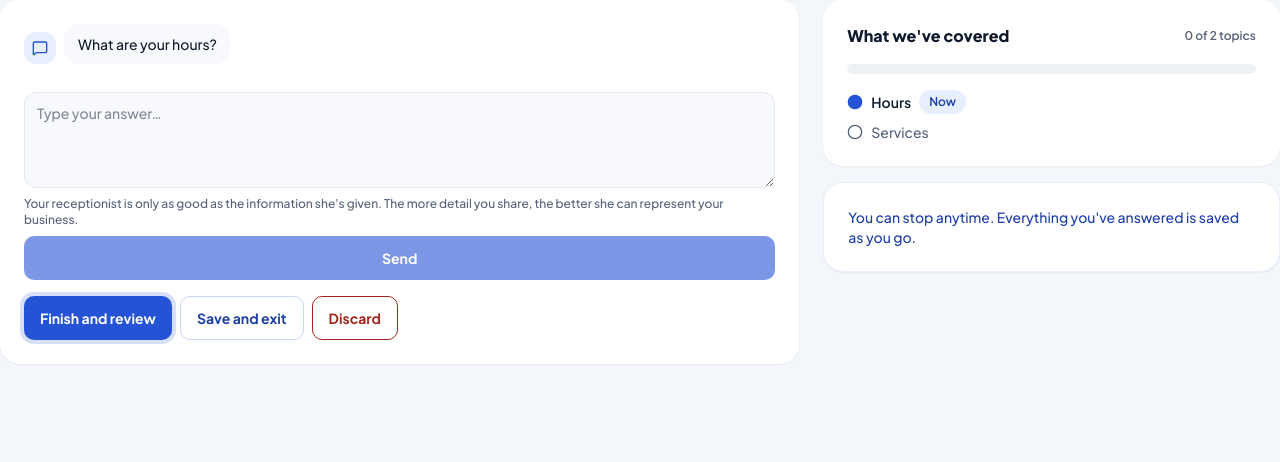
Test: InterviewChat send UX › keeps the owner message and re-enables input on error
Type "We do wellness exams" into the text box named "Interview answer" at (400, 140), box x1=24 y1=92 x2=775 y2=188
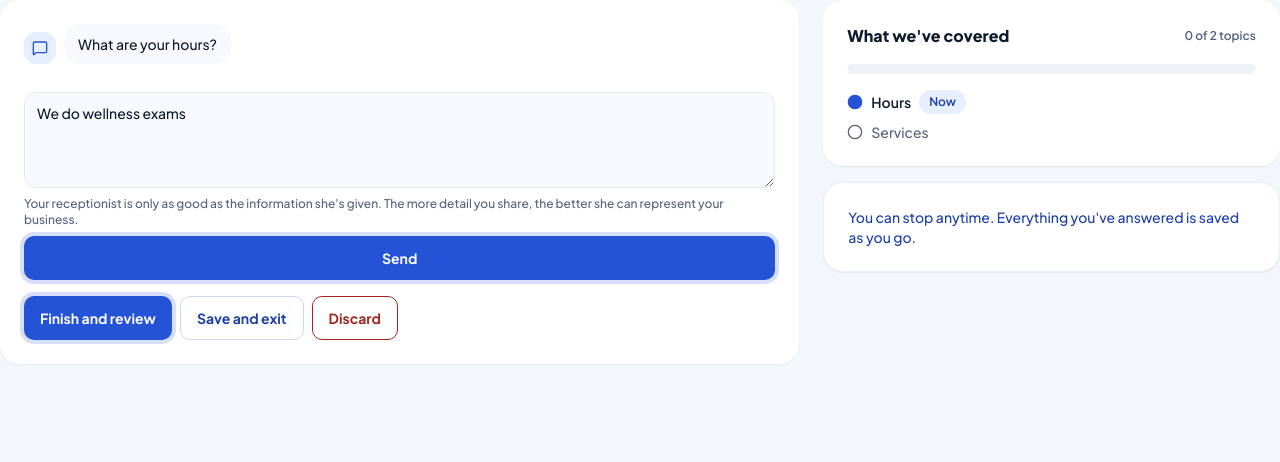
Click the button "Send" at (400, 258), box x1=24 y1=236 x2=775 y2=280
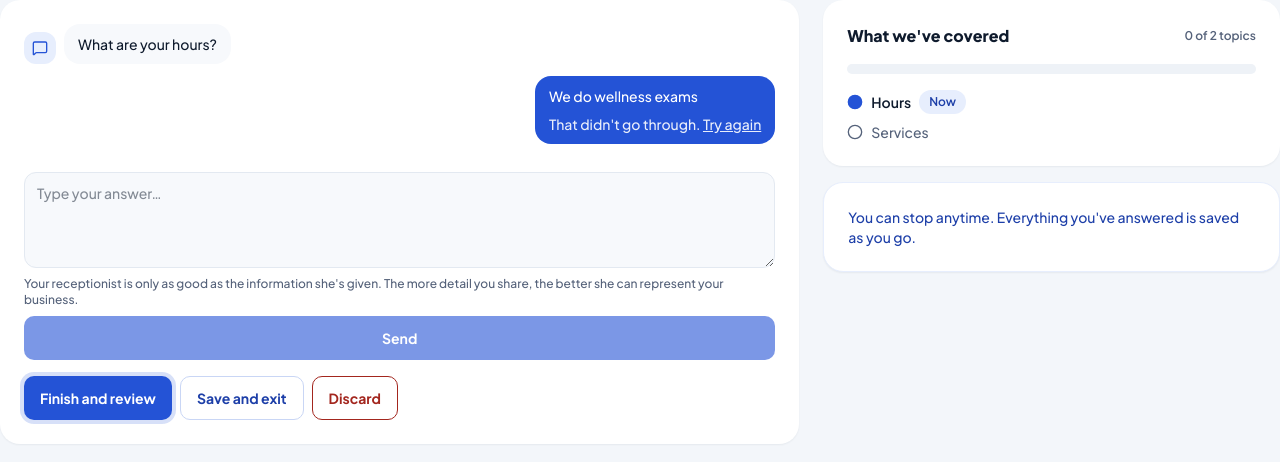
Result: the text "We do wellness exams" is shown at x1=549 y1=87 x2=698 y2=105
Result: the text "That didn't go through. Try again" is shown at x1=549 y1=114 x2=761 y2=134
Result: the button "Send" is disabled at x1=24 y1=316 x2=775 y2=360
